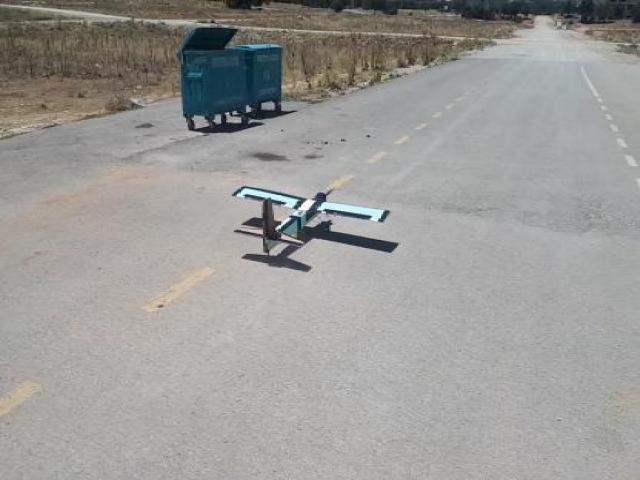uav: (231, 178, 392, 248)
